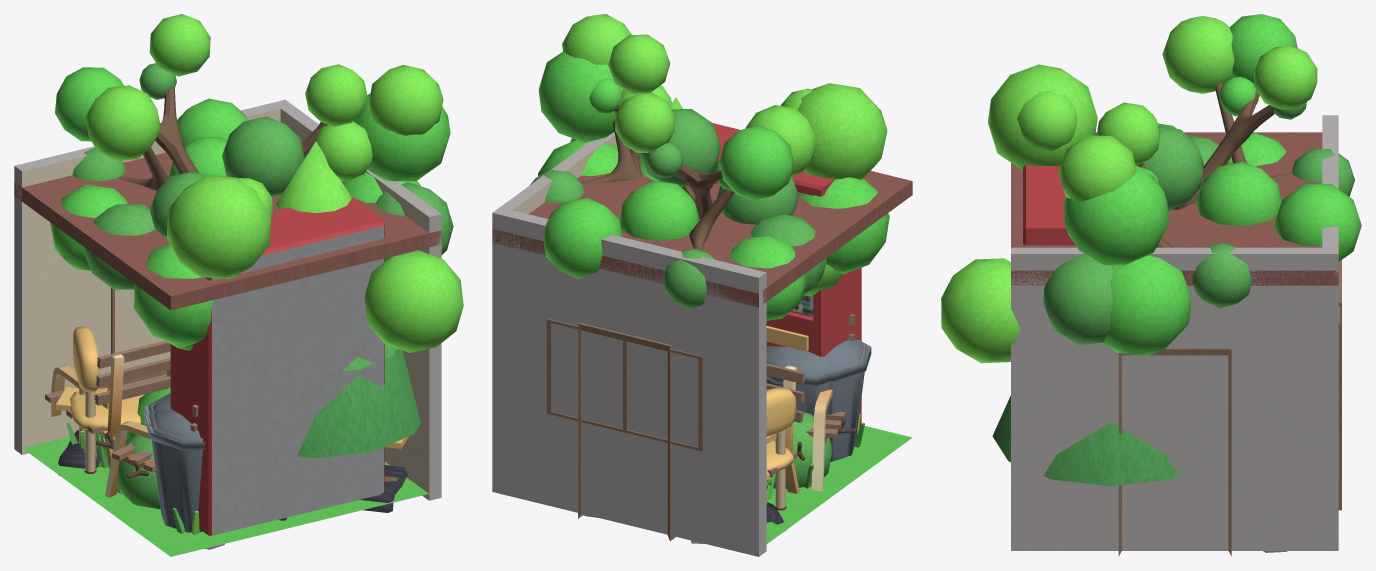
The model's file is all_map.fbx.
3 views of the same model, side by side, from view 1: azimuth 30°, elevation 25°; view 2: azimuth 150°, elevation 25°; view 3: azimuth 270°, elevation 25° (orthographic). The views are drawn at different scales.
Visible parts, largest first — view 1: vending_machine.001, tree.001, wall_1.002, tree.003, tree.002, wall_1.003, wall_2.001, pinetree, wall_1_window.001, park_green, trashcan.001, park_bench.003 (+5 smaller); view 2: wall_1.002, wall_1_window.001, tree.001, tree.002, tree.003, wall_2_window.001, vending_machine.001, wall_2.001, wall_1.003, park_green, trashcan.001, wall_1_door.001 (+6 smaller); view 3: wall_2.001, tree.001, tree.003, tree.002, wall_1.002, pinetree, wall_1.003, vending_machine.001, wall_2_door.001, wall_1_door.001.
Part boxes in pixels (x1=…): vending_machine.001: x1=170, y1=196, x2=384, y2=535; tree.001: x1=50, y1=14, x2=450, y2=278; wall_1.002: x1=14, y1=100, x2=421, y2=454; tree.003: x1=134, y1=65, x2=463, y2=520; tree.002: x1=72, y1=85, x2=420, y2=350; wall_1.003: x1=14, y1=140, x2=441, y2=310; wall_2.001: x1=14, y1=100, x2=441, y2=500; pinetree: x1=276, y1=141, x2=420, y2=458; wall_1_window.001: x1=22, y1=100, x2=287, y2=454; park_green: x1=22, y1=436, x2=428, y2=556; trashcan.001: x1=145, y1=409, x2=205, y2=532; park_bench.003: x1=45, y1=340, x2=170, y2=469; wall_1.002: x1=492, y1=153, x2=912, y2=556; wall_1_window.001: x1=492, y1=207, x2=765, y2=556; tree.001: x1=538, y1=34, x2=887, y2=320; tree.002: x1=538, y1=85, x2=842, y2=309; tree.003: x1=530, y1=14, x2=889, y2=274; wall_2_window.001: x1=492, y1=178, x2=765, y2=555; vending_machine.001: x1=712, y1=123, x2=861, y2=428; wall_2.001: x1=495, y1=132, x2=910, y2=556; wall_1.003: x1=492, y1=153, x2=912, y2=307; park_green: x1=766, y1=426, x2=912, y2=543; trashcan.001: x1=823, y1=339, x2=871, y2=461; wall_1_door.001: x1=578, y1=322, x2=675, y2=540; wall_2.001: x1=1011, y1=115, x2=1338, y2=550; tree.001: x1=987, y1=14, x2=1317, y2=265; tree.003: x1=941, y1=90, x2=1281, y2=363; tree.002: x1=1102, y1=16, x2=1361, y2=356; wall_1.002: x1=1011, y1=115, x2=1338, y2=550; pinetree: x1=992, y1=395, x2=1178, y2=486; wall_1.003: x1=1011, y1=132, x2=1338, y2=285; vending_machine.001: x1=1023, y1=165, x2=1075, y2=245; wall_2_door.001: x1=1118, y1=116, x2=1338, y2=556; wall_1_door.001: x1=1338, y1=260, x2=1341, y2=510.
Bounding box in the file's own units: 2.39 × 3.13 × 2.57.
Materials: 28 (28 with a texture image).
